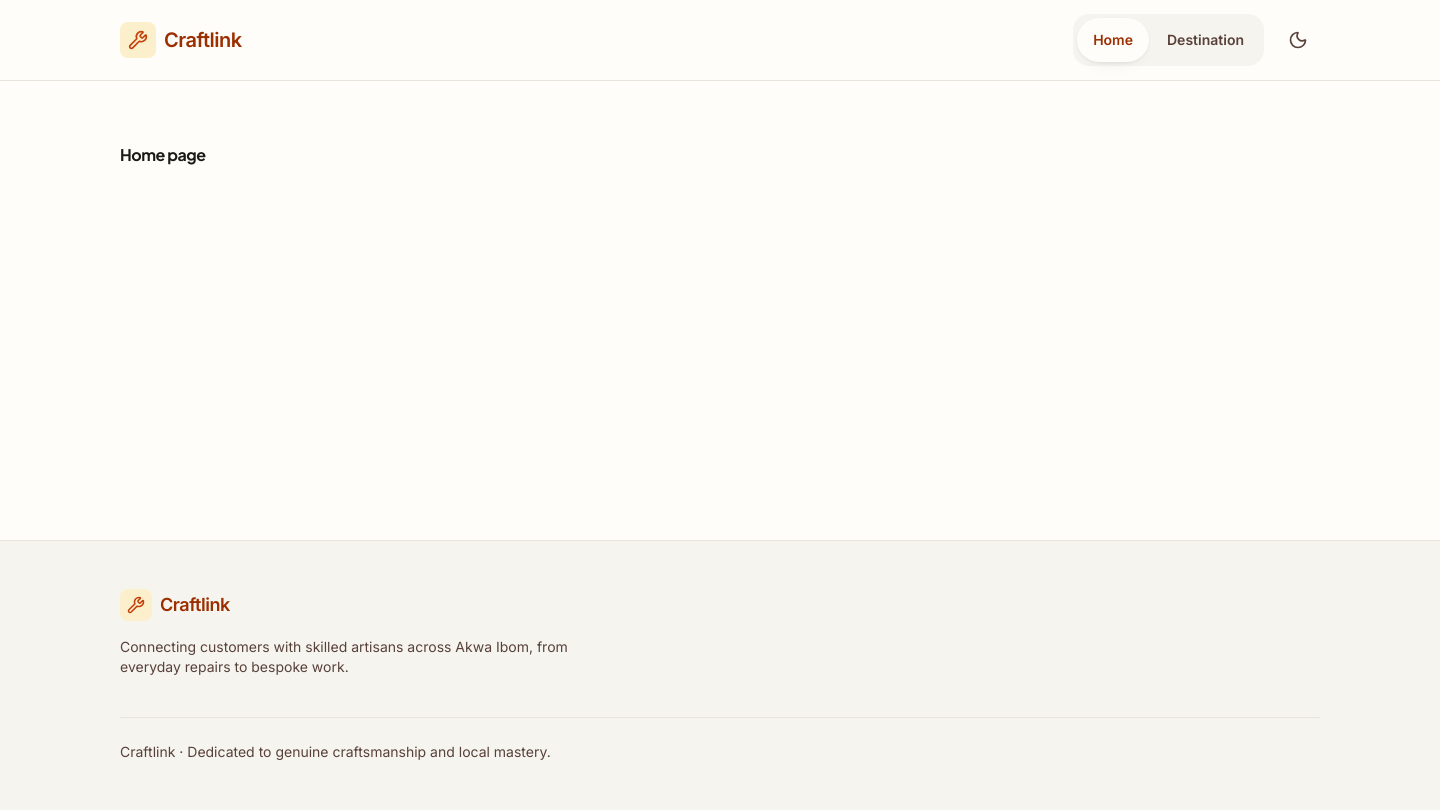
Test: AppShell navigation › moves focus to main content after a route change
This screenshot has width=1440, height=810.
Click the link "Destination" at (1206, 40), box [1167,31,1244,48]
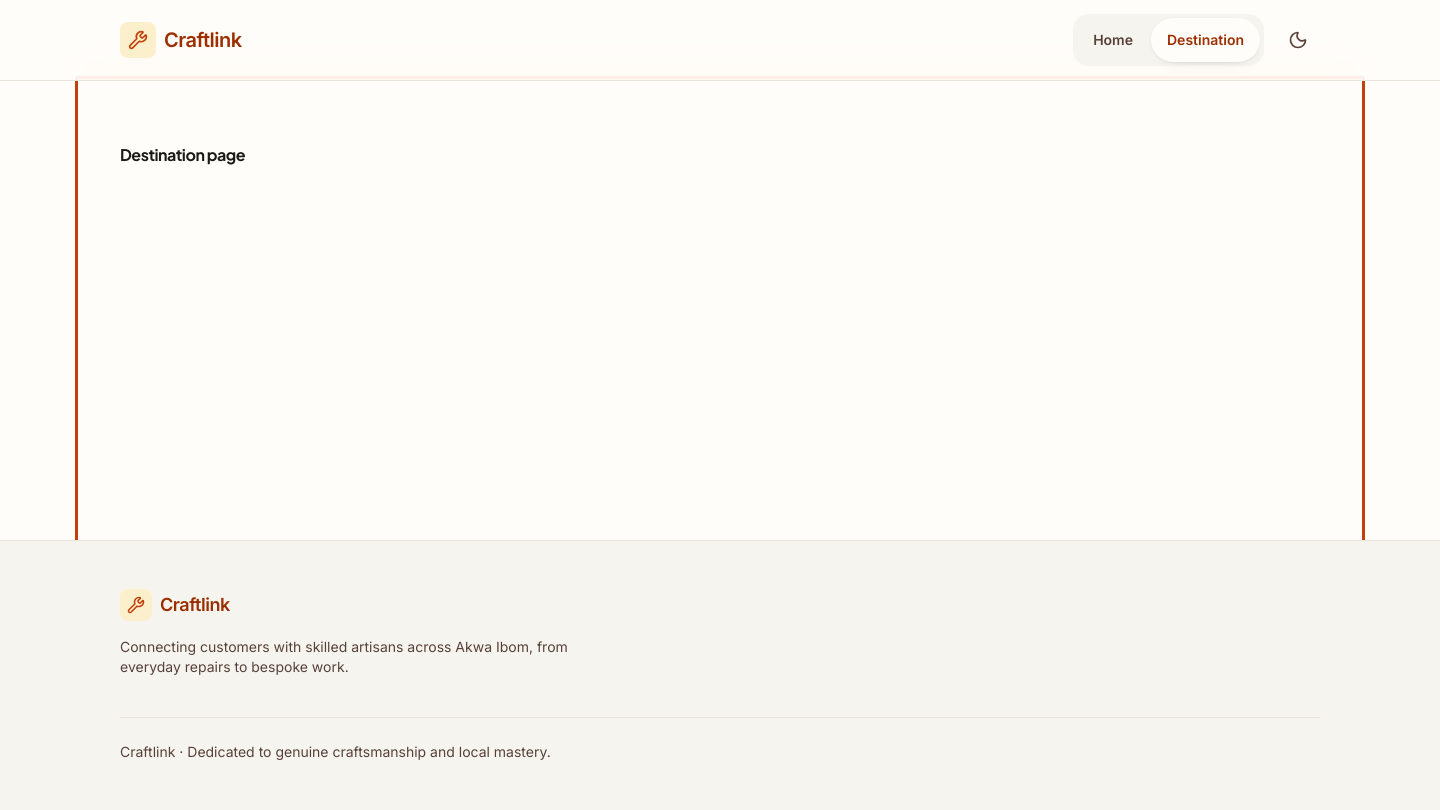
Now the heading "Destination page" is shown, box [120,144,245,165]
